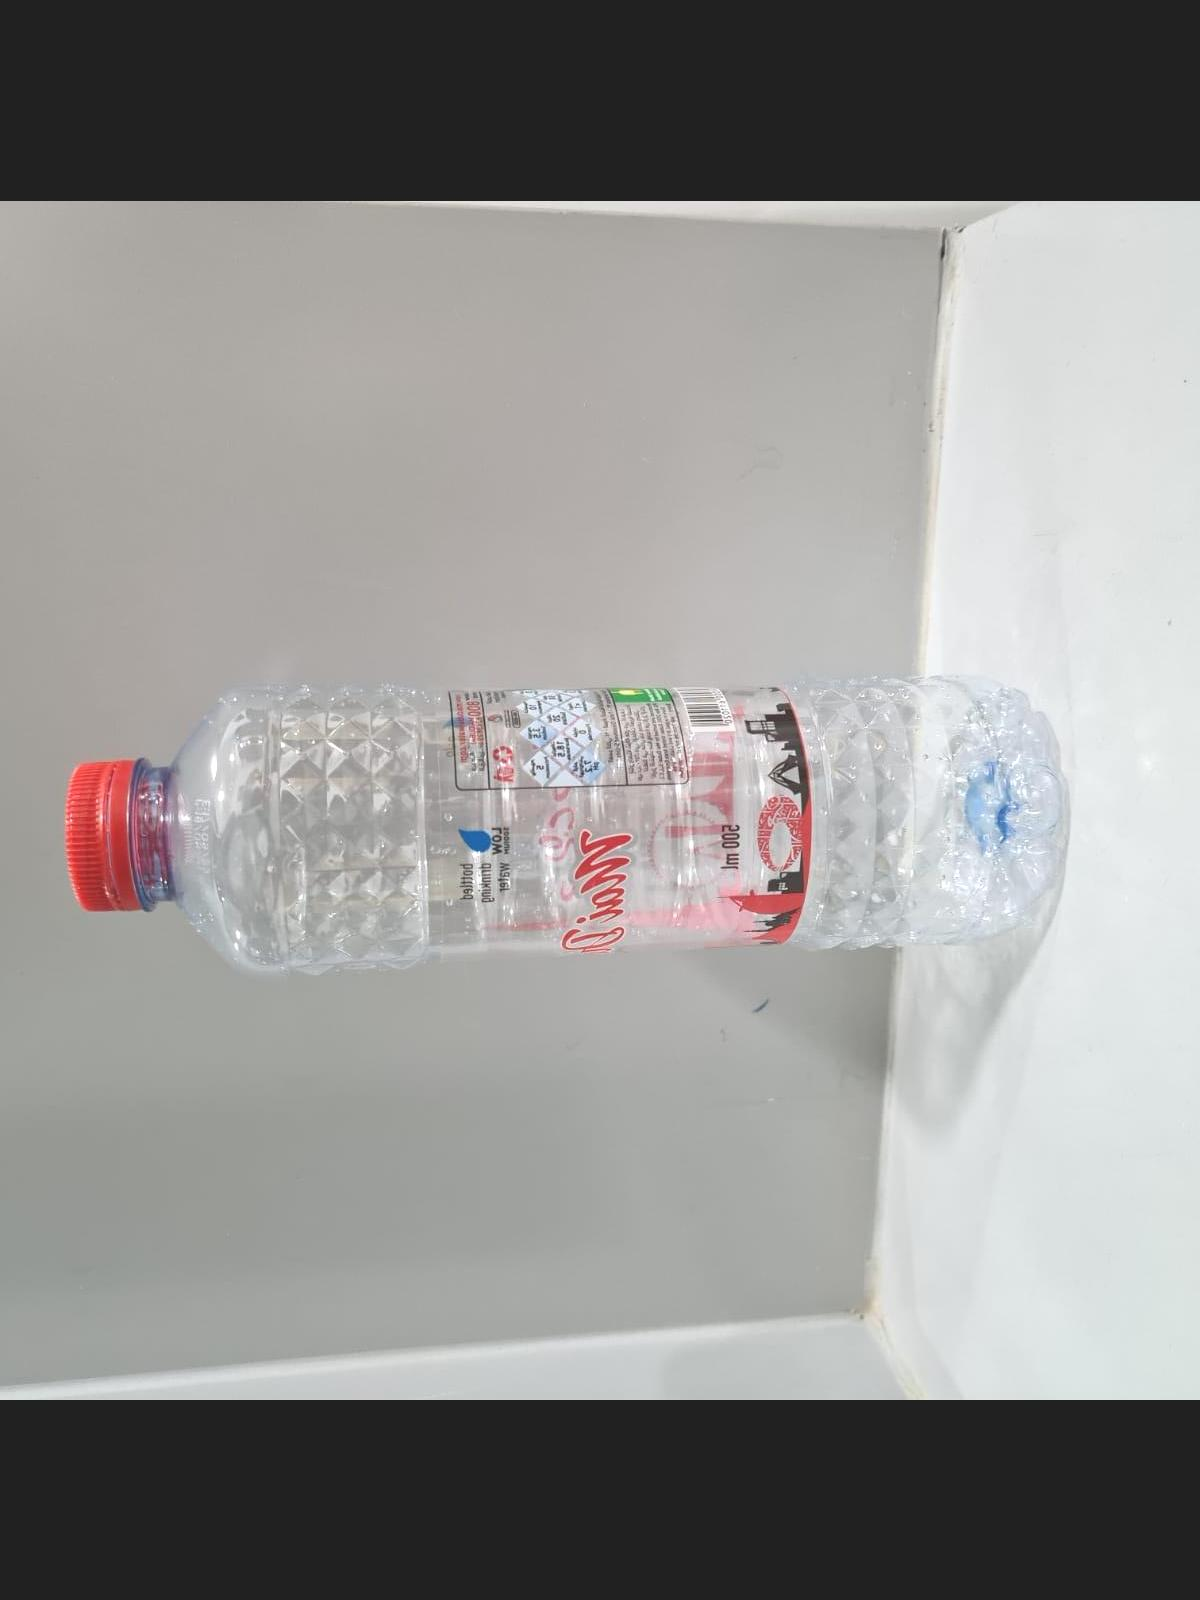bottle: (64, 660, 1051, 971)
